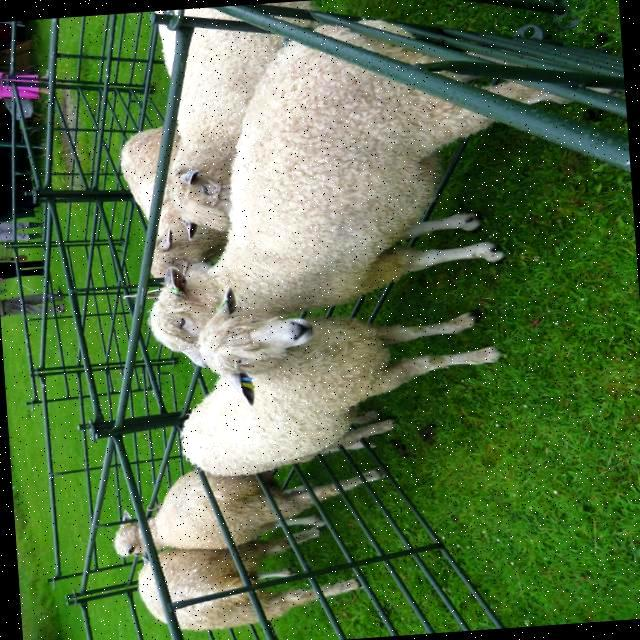sheep: (178, 306, 497, 475)
